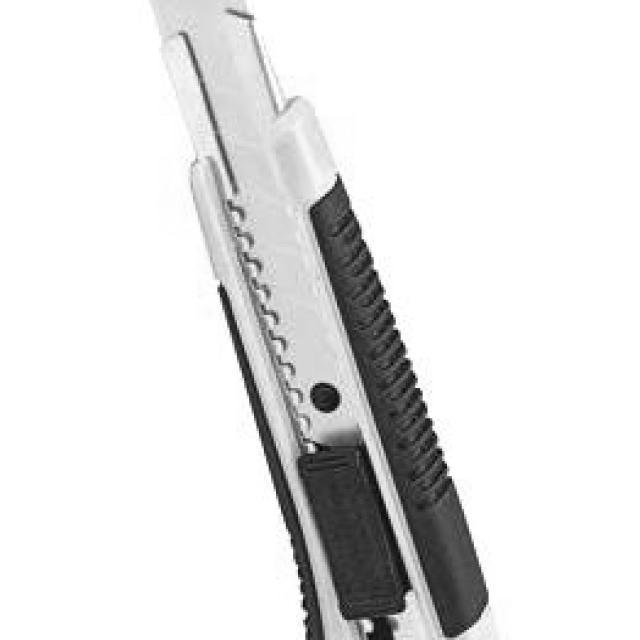estilete: (149, 0, 501, 640)
